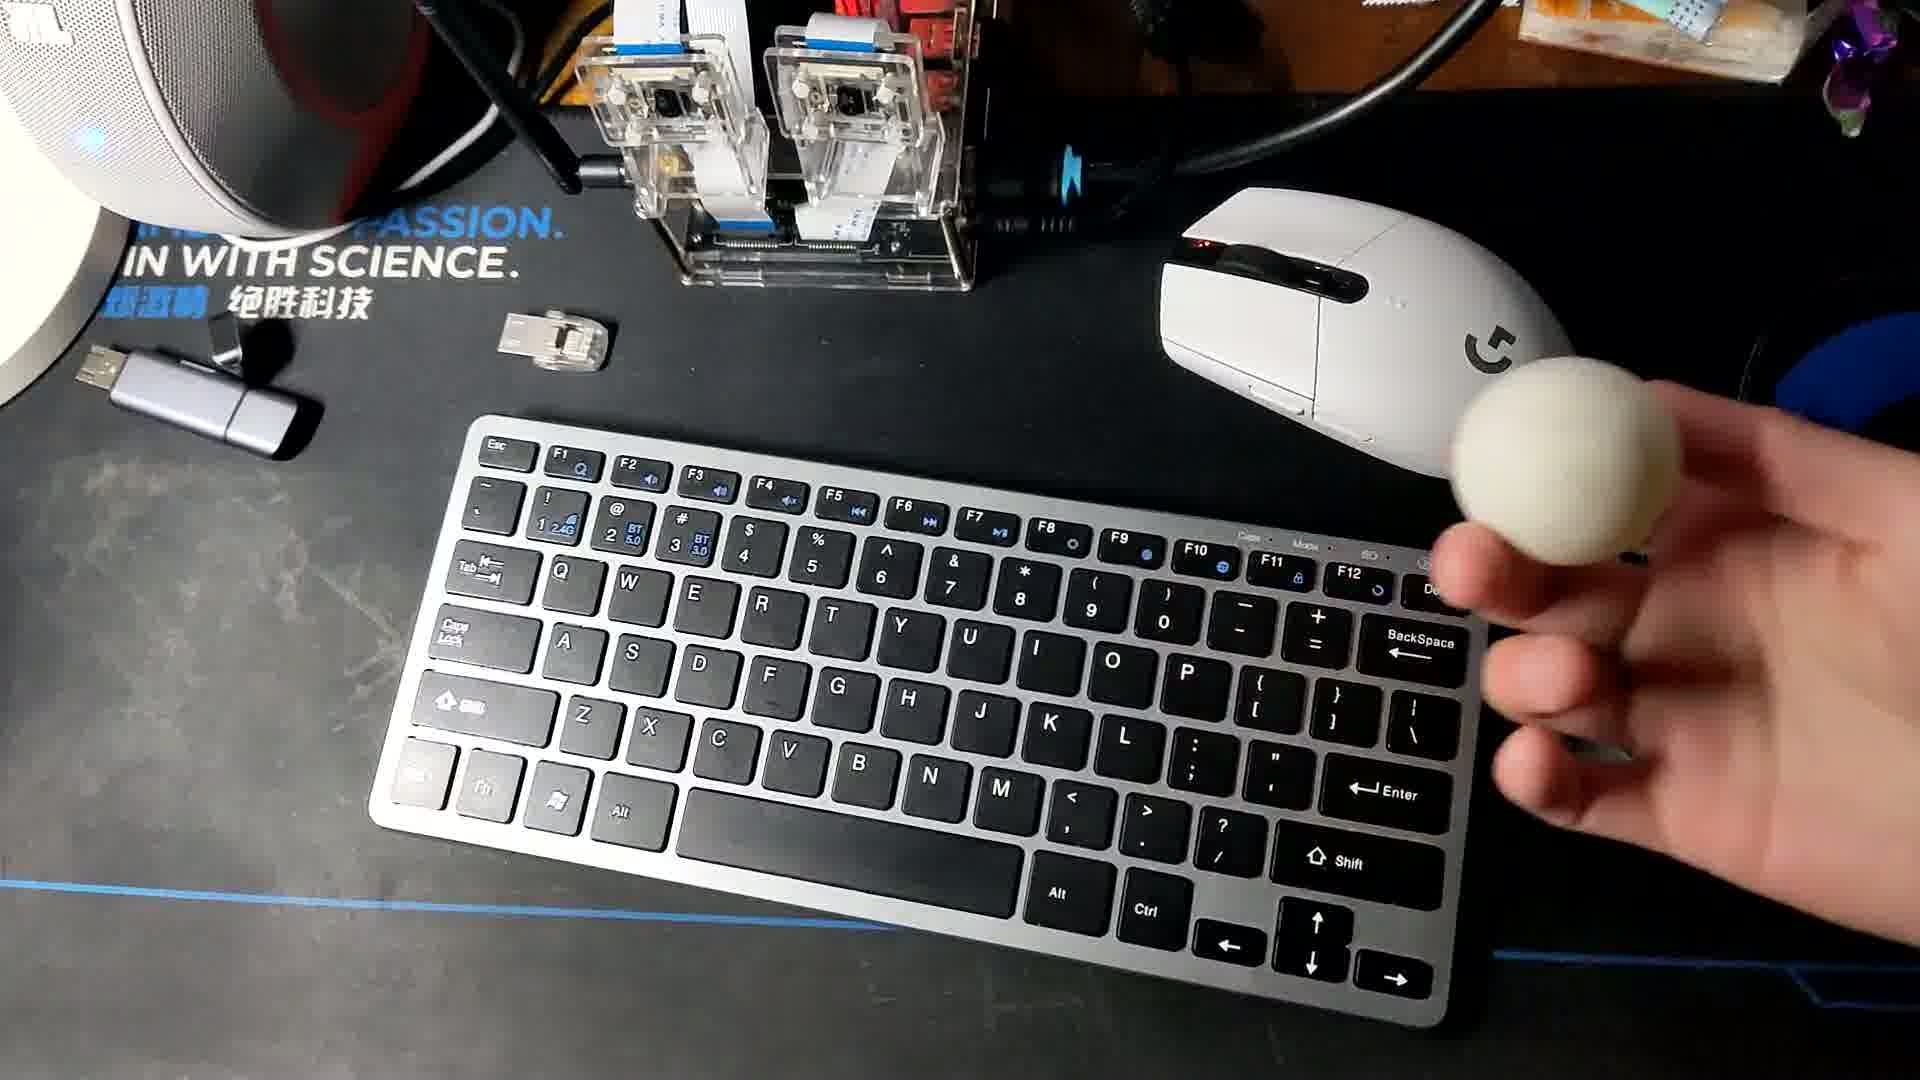Ball: (1452, 356, 1691, 568)
